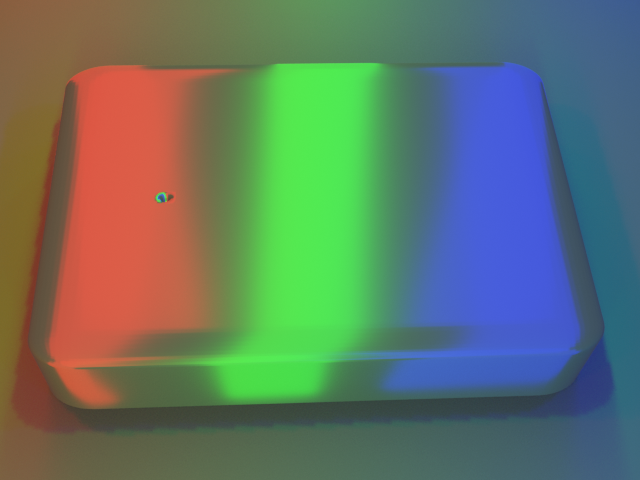dent: (129, 177, 169, 219)
